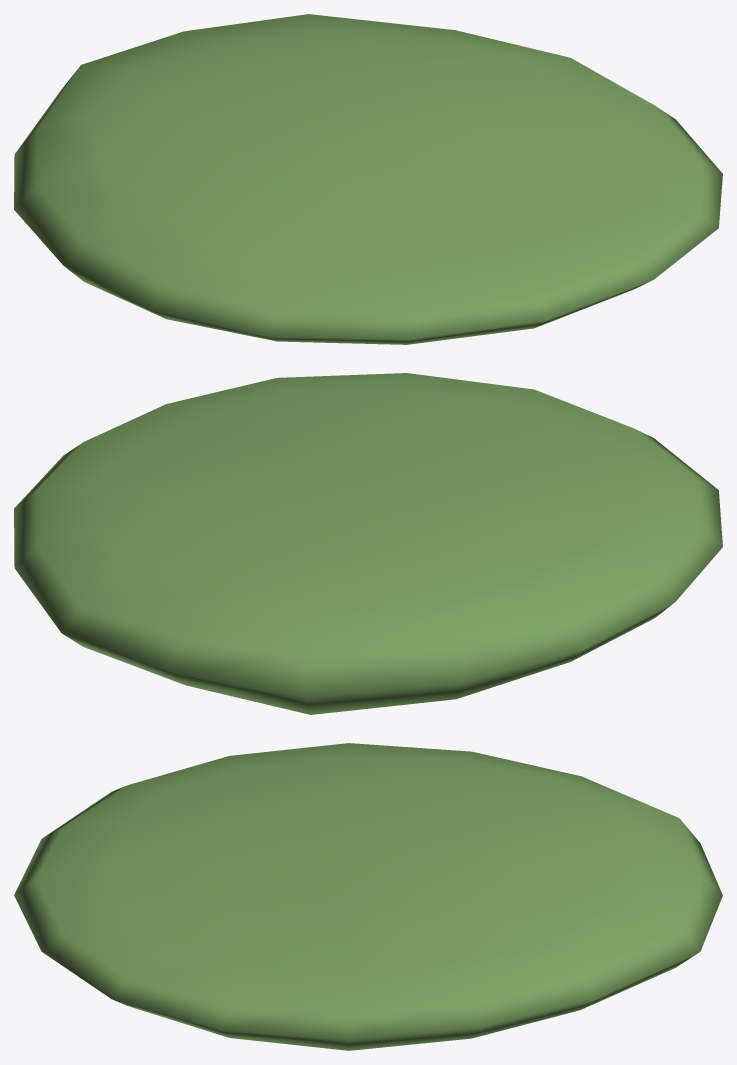
The model's file is MOD_BigLeaf05.fbx.
The picture shows the model from 3 angles, top to bottom: view 1: azimuth 30°, elevation 25°; view 2: azimuth 150°, elevation 25°; view 3: azimuth 270°, elevation 25°; orthographic projection. The views are drawn at different scales.
Parts seen in each view (by area): view 1: MOD_BigLeaf05; view 2: MOD_BigLeaf05; view 3: MOD_BigLeaf05.
Boxes of the visible parts, left/top/right/bottom form: MOD_BigLeaf05: left=14, top=14, right=722, bottom=344; MOD_BigLeaf05: left=14, top=373, right=722, bottom=714; MOD_BigLeaf05: left=14, top=743, right=722, bottom=1050.
Size of the model in its own units: 5.95 by 1 by 6.31.
